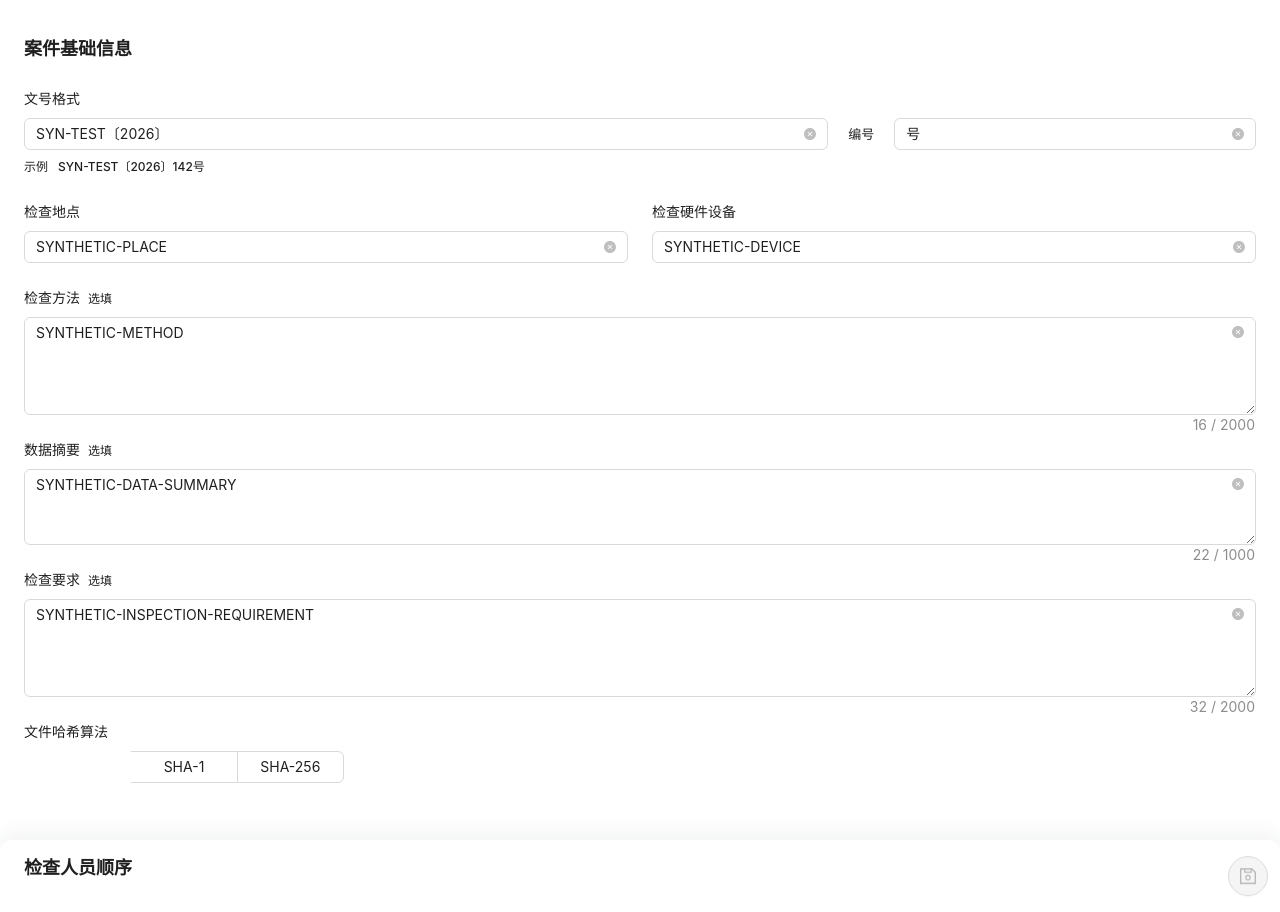
Test: SharedDefaultsSettingsForm › shows all settings and saves an intentional clear without default inspectors
Expected: the field showing "SYN-TEST〔2026〕" is shown, top-left (36, 123), bottom-right (800, 145)
Expected: the field showing "号" is shown, top-left (906, 123), bottom-right (1228, 145)
Click the radio button labelled "SHA-256" at (290, 767), box top-left (237, 751), bottom-right (344, 783)
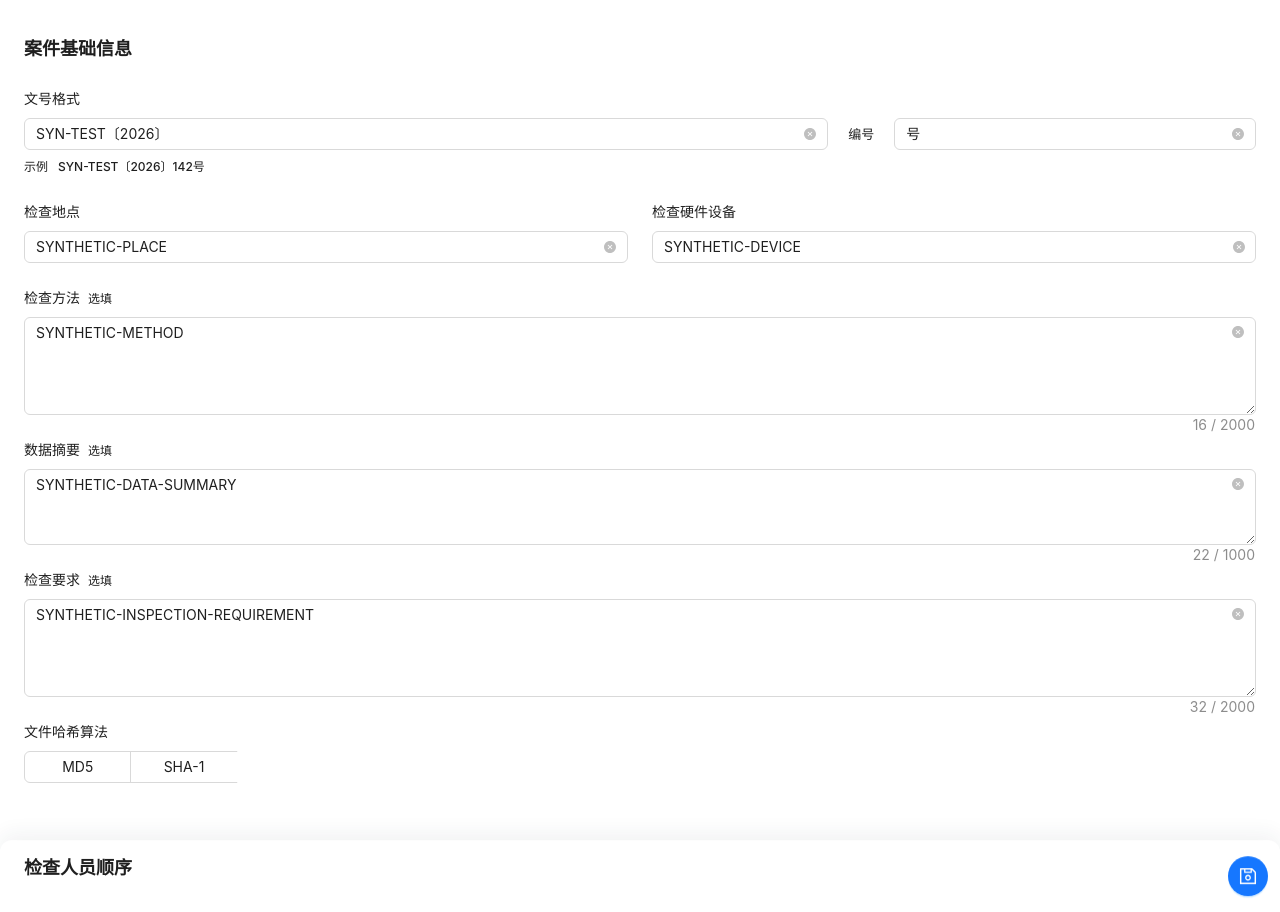
Clear the field named "文号编号前内容" at (418, 134), box top-left (36, 123), bottom-right (800, 145)
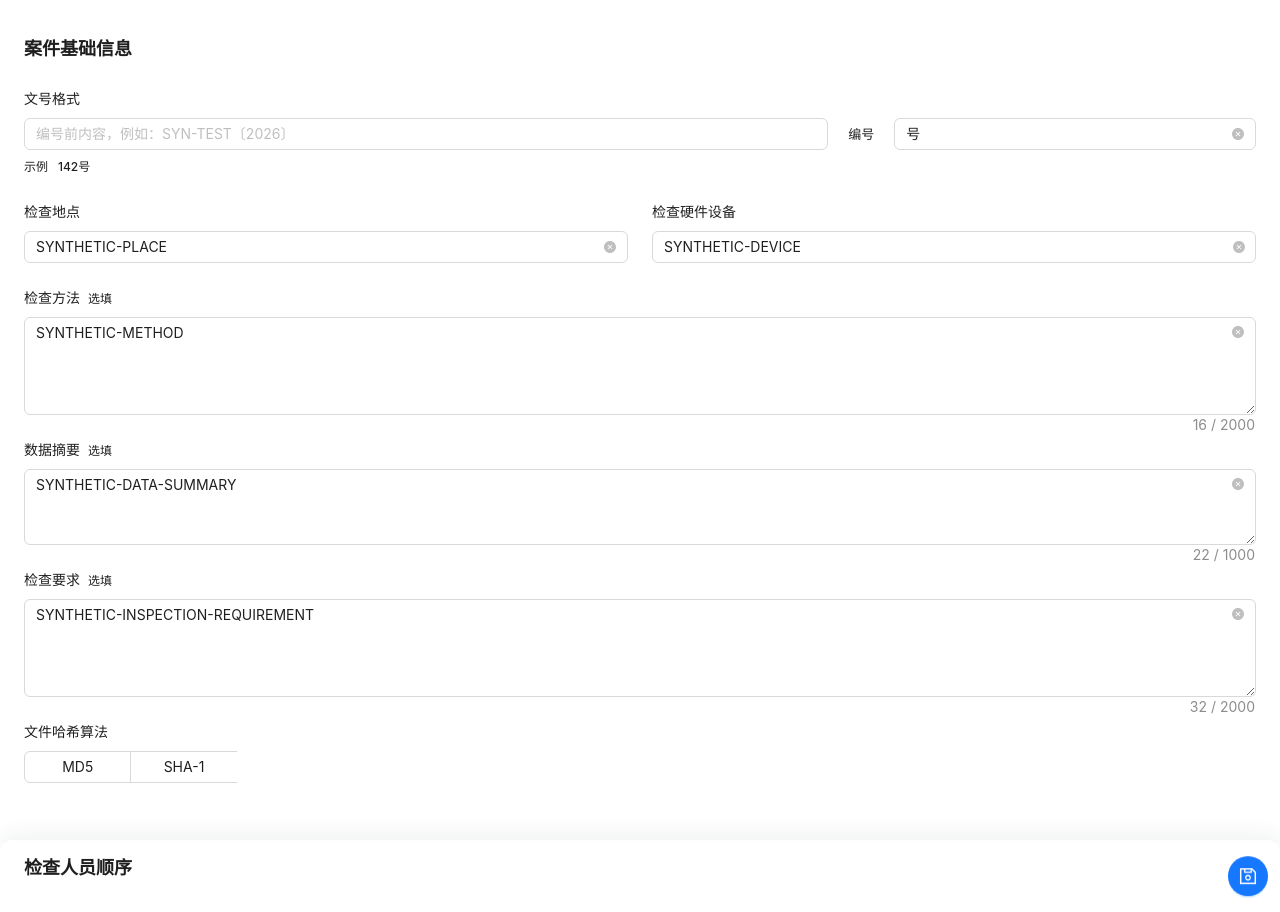
Clear the field named "文号编号后内容" at (1067, 134), box top-left (906, 123), bottom-right (1228, 145)
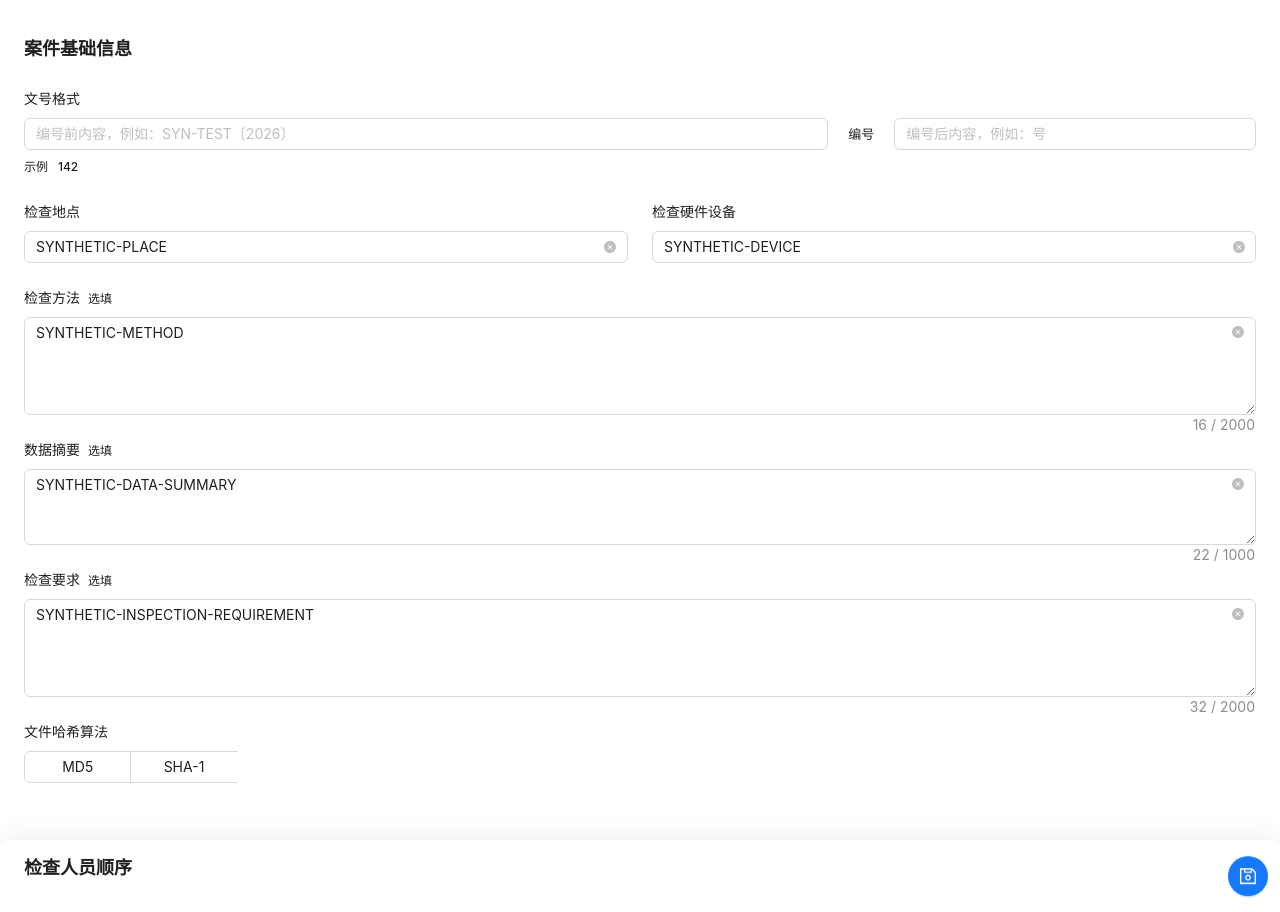
Clear the text box labelled "数据摘要 选填" at (640, 507), box top-left (25, 470), bottom-right (1255, 544)
(page scrolled)
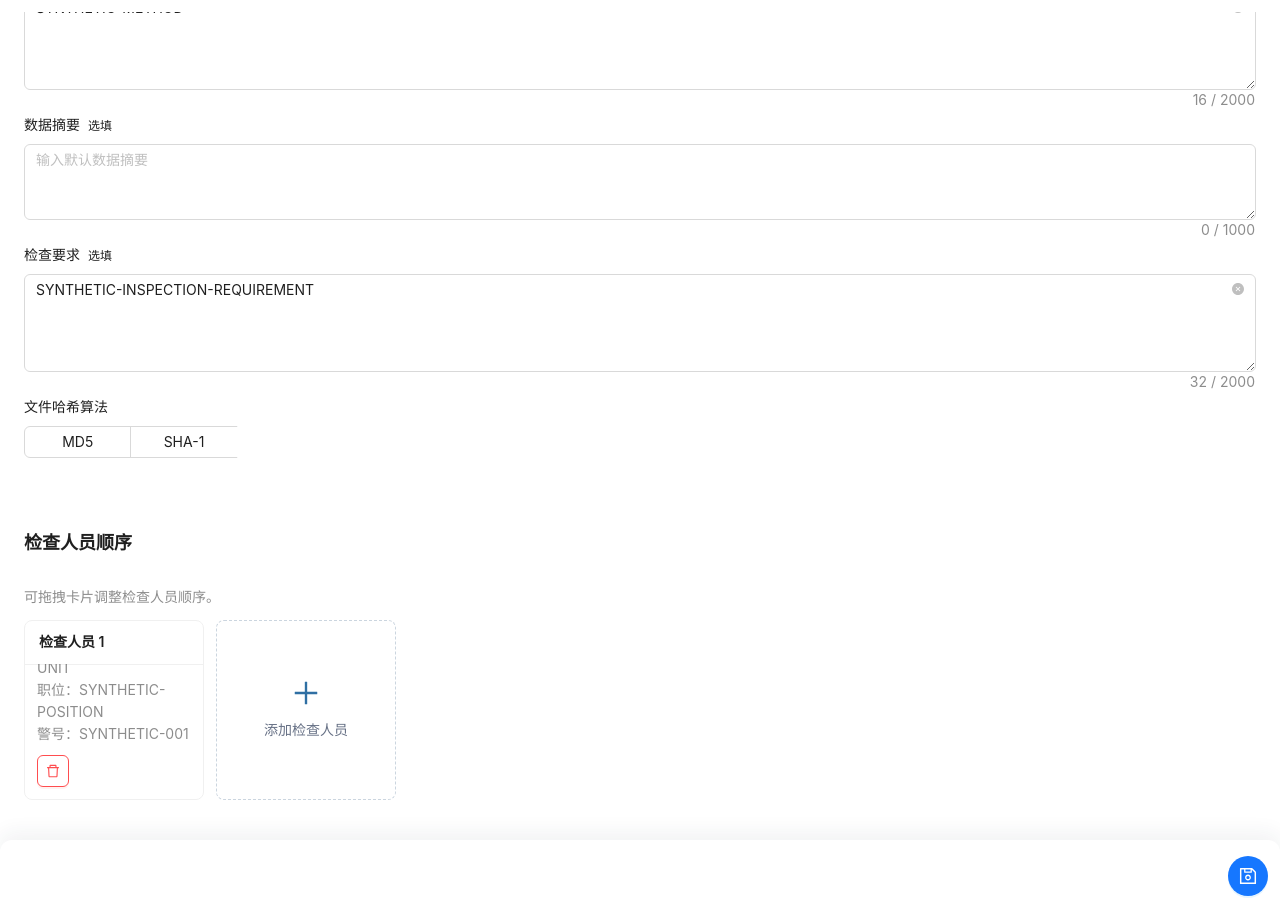
Click the button named "移除1" at (53, 771), box top-left (37, 755), bottom-right (69, 787)
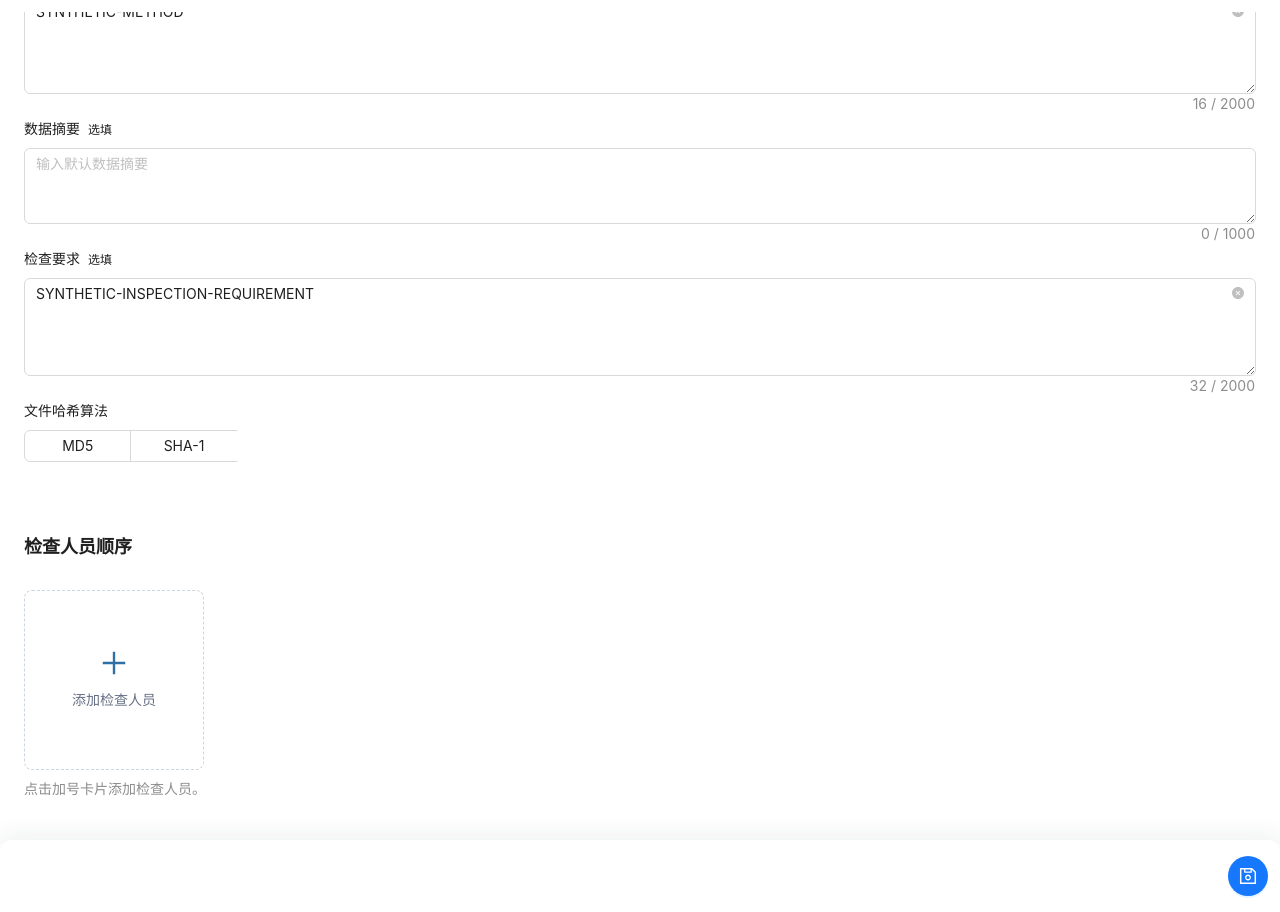
Click the button named "保存默认设置" at (1248, 876), box top-left (1228, 856), bottom-right (1268, 896)
(page scrolled)
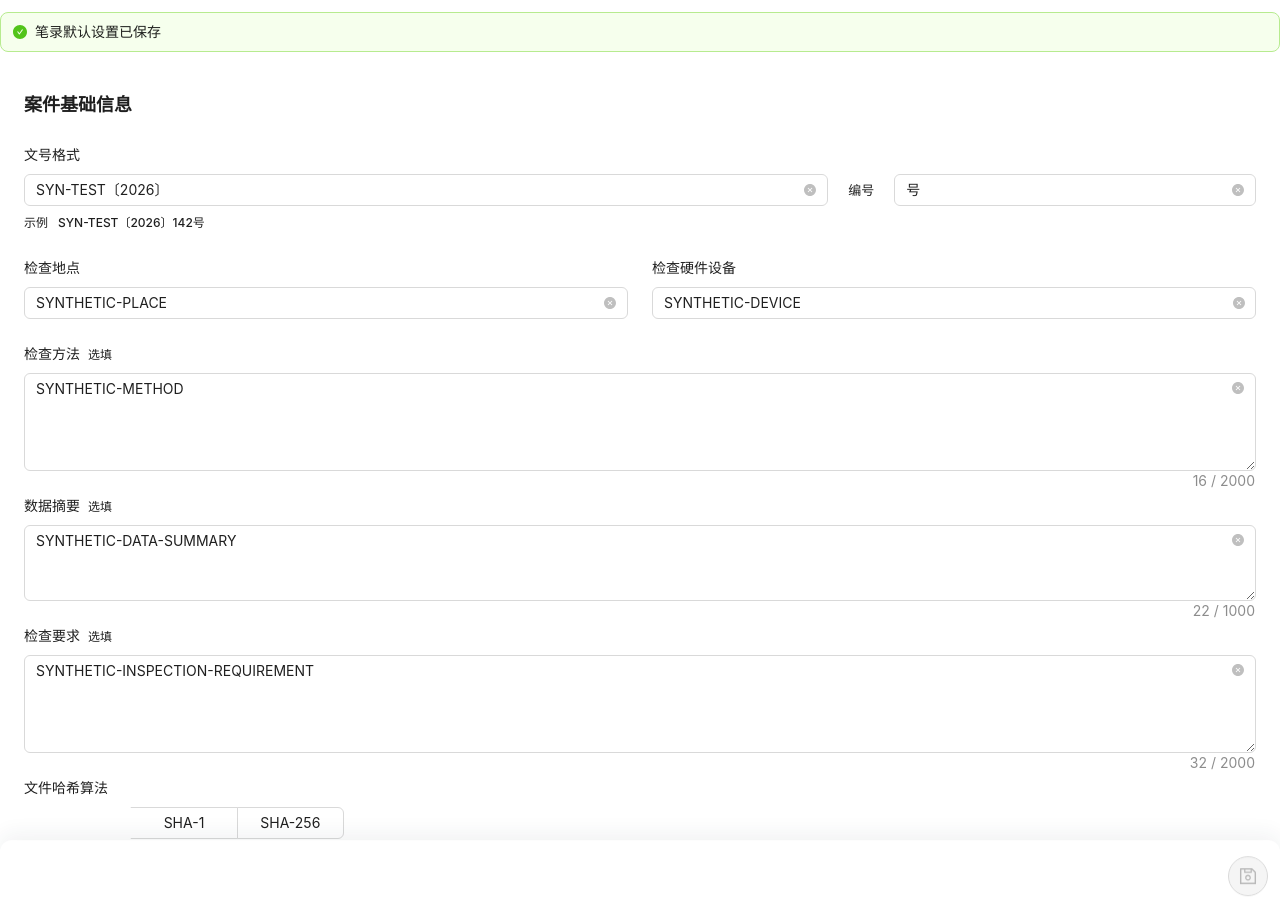
Now the text "笔录默认设置已保存" is shown, box top-left (35, 23), bottom-right (161, 40)
